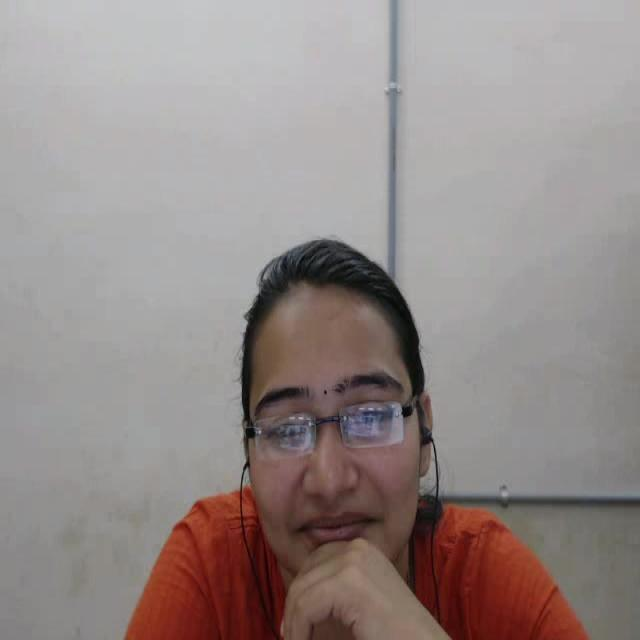Bored: (190, 219, 525, 640)
